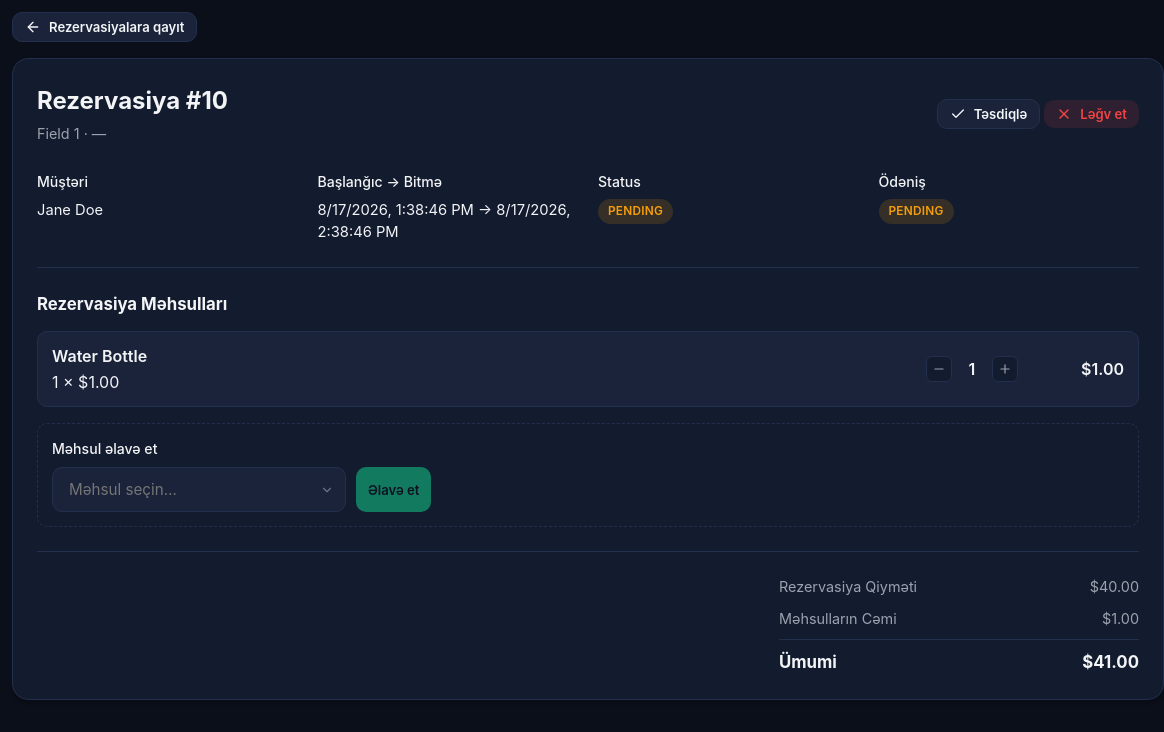
BookingDetails page › adding the same item again increases the displayed quantity from the server response
The image size is (1164, 732).
Expected: the text "Water Bottle" is shown, [52,346,147,366]
Step 1. Click the button named "Water Bottle məhsulundan daha bir ədəd əlavə et" → [1005, 369], box [992,356,1018,382]
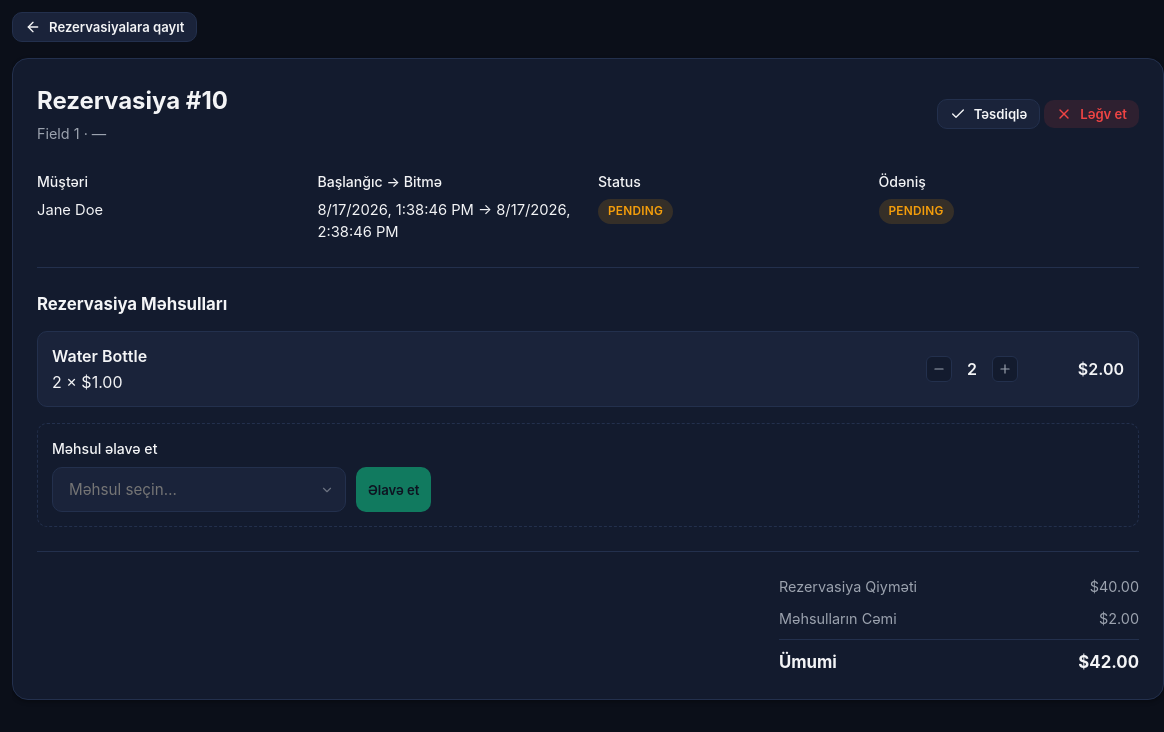
Expected: the text "2 × $1.00" is shown, [52,372,122,392]
